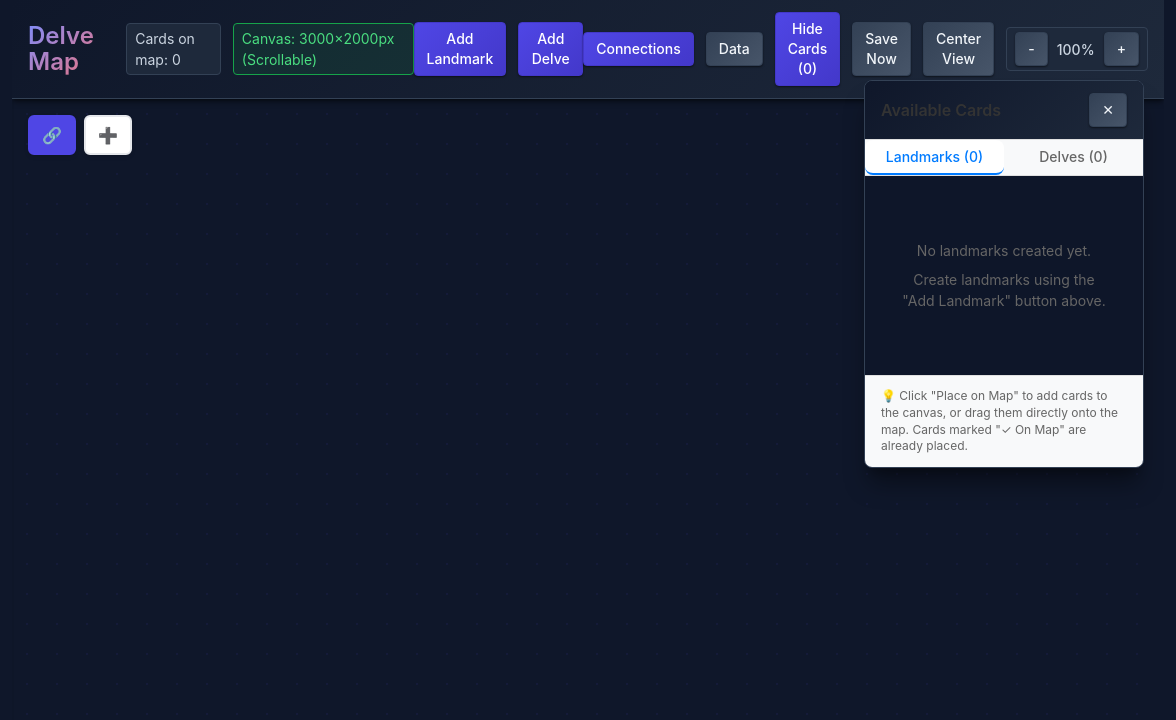
Test: DelveMapPage › handles zoom controls correctly
Expected: the text "100%" is shown, [1056,38,1096,60]
Test zoom in
What coordinates should you click on to do the following:
click the button "+"
I would click on:
 (1121, 49)
Its box is [1104,32,1139,66].
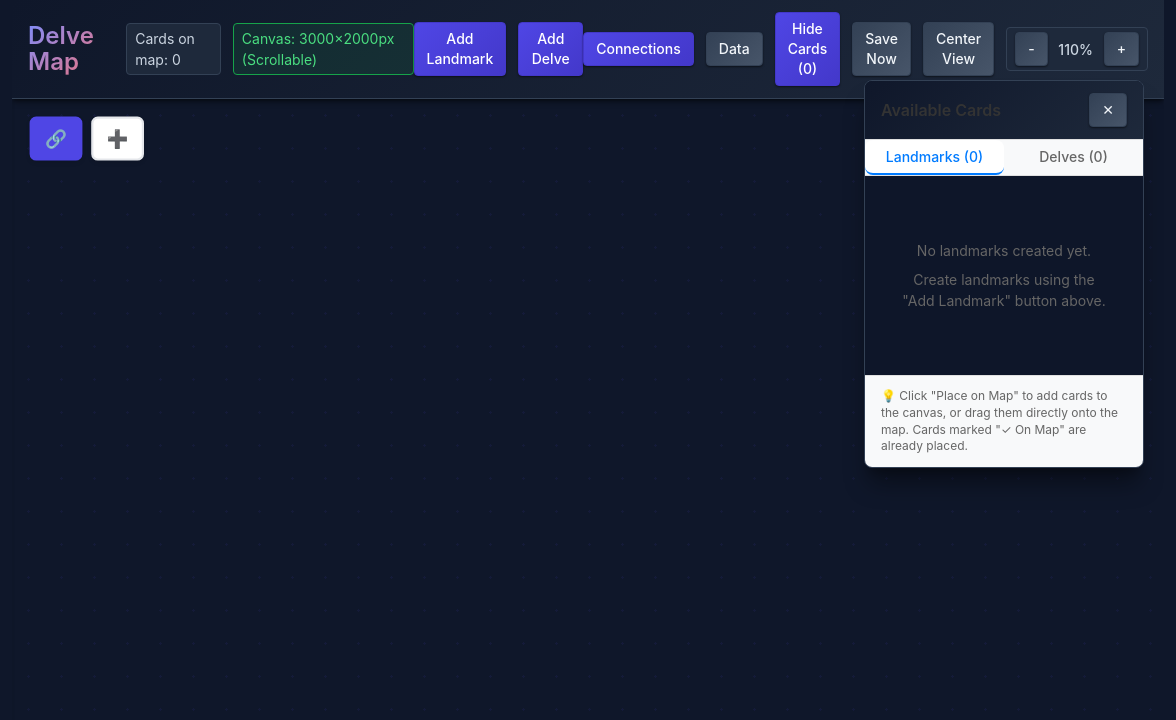
Expected: the text "110%" is shown, [1056,38,1096,60]
Test zoom out
What coordinates should you click on to do the following:
click the button "-"
I would click on:
 (1031, 49)
Its box is [1015,32,1048,66].
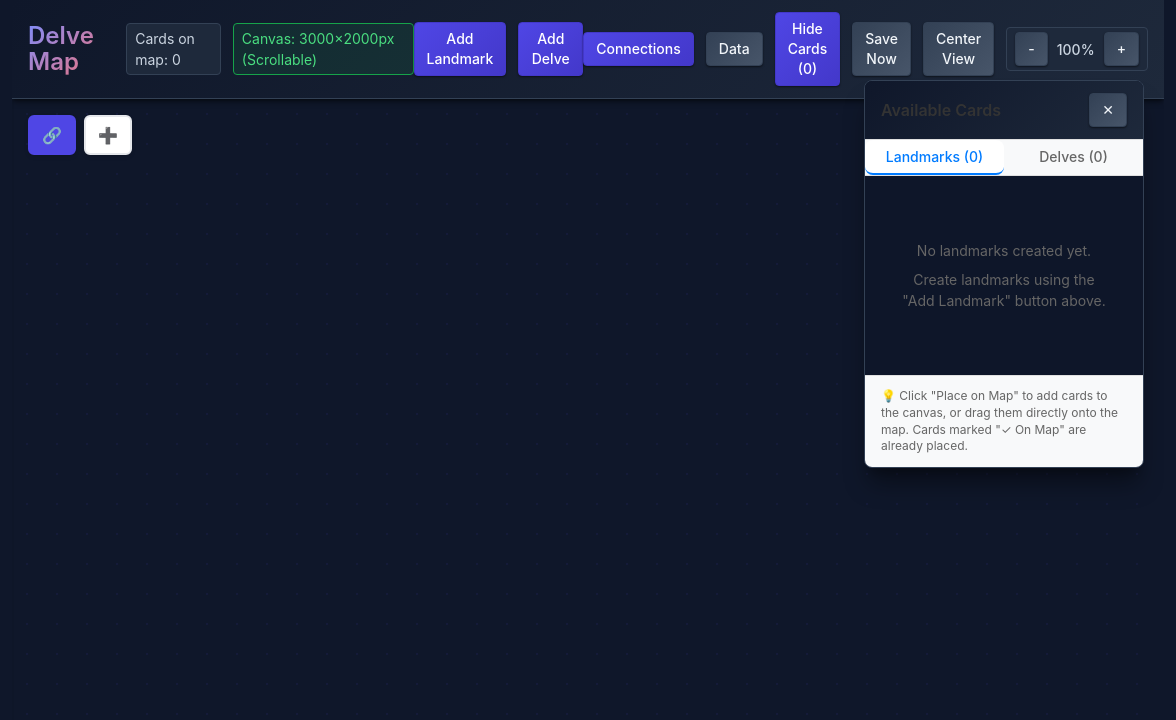
What coordinates should you click on to do the following:
click the button "-"
I would click on:
 (1031, 49)
Its box is [1015,32,1048,66].
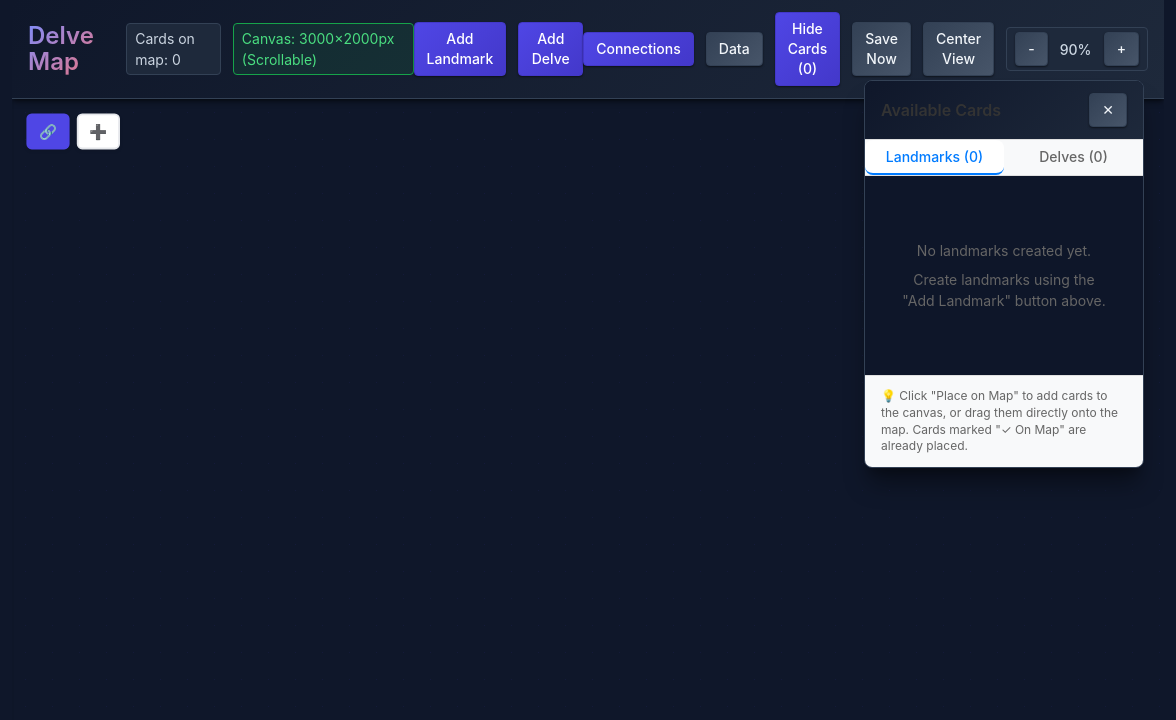
Expected: the text "90%" is shown, [1060,40,1092,58]
